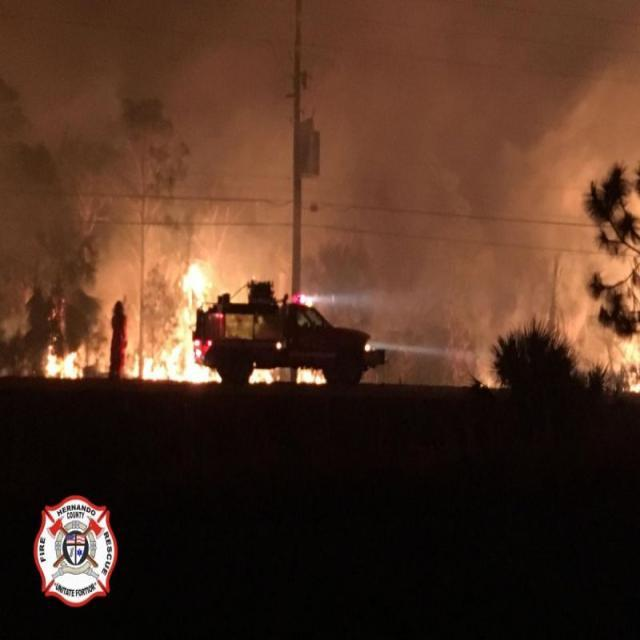Smoke: (430, 0, 639, 389)
